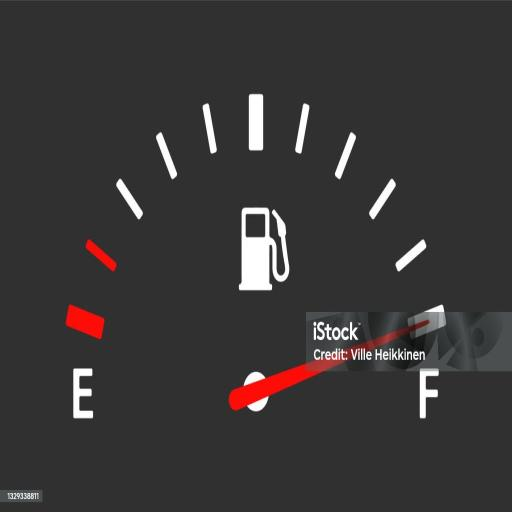empty: (71, 368, 96, 424)
fuel_icon: (235, 206, 292, 296)
full: (416, 365, 440, 423)
guage_area: (66, 90, 459, 437)
needle_center: (241, 366, 274, 415)
needle_tip: (418, 316, 432, 334)
